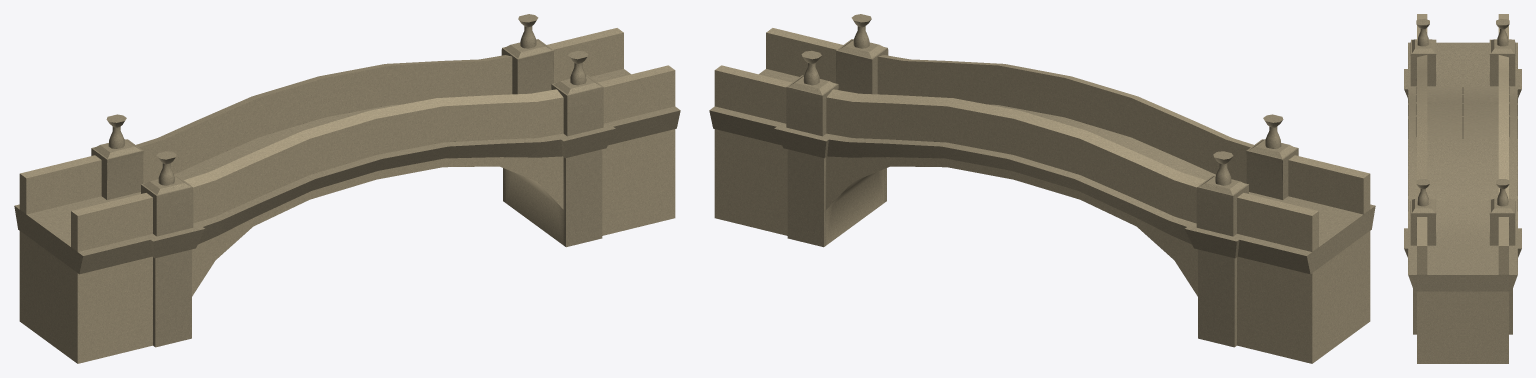
The model's file is Bridge.fbx.
3 renders of one model, left to right at view 1: azimuth 30°, elevation 25°; view 2: azimuth 150°, elevation 25°; view 3: azimuth 270°, elevation 25°, orthographic. The views are drawn at different scales.
Parts seen in each view (by area): view 1: Bridge; view 2: Bridge; view 3: Bridge.
Boxes of the visible parts, x1,y1,x2,y2 form: Bridge: (14,14,680,363); Bridge: (709,14,1375,363); Bridge: (1404,14,1521,363).
Bounding box in the file's own units: 3789 × 1109 × 813.
Materials: 1 (1 with a texture image).
